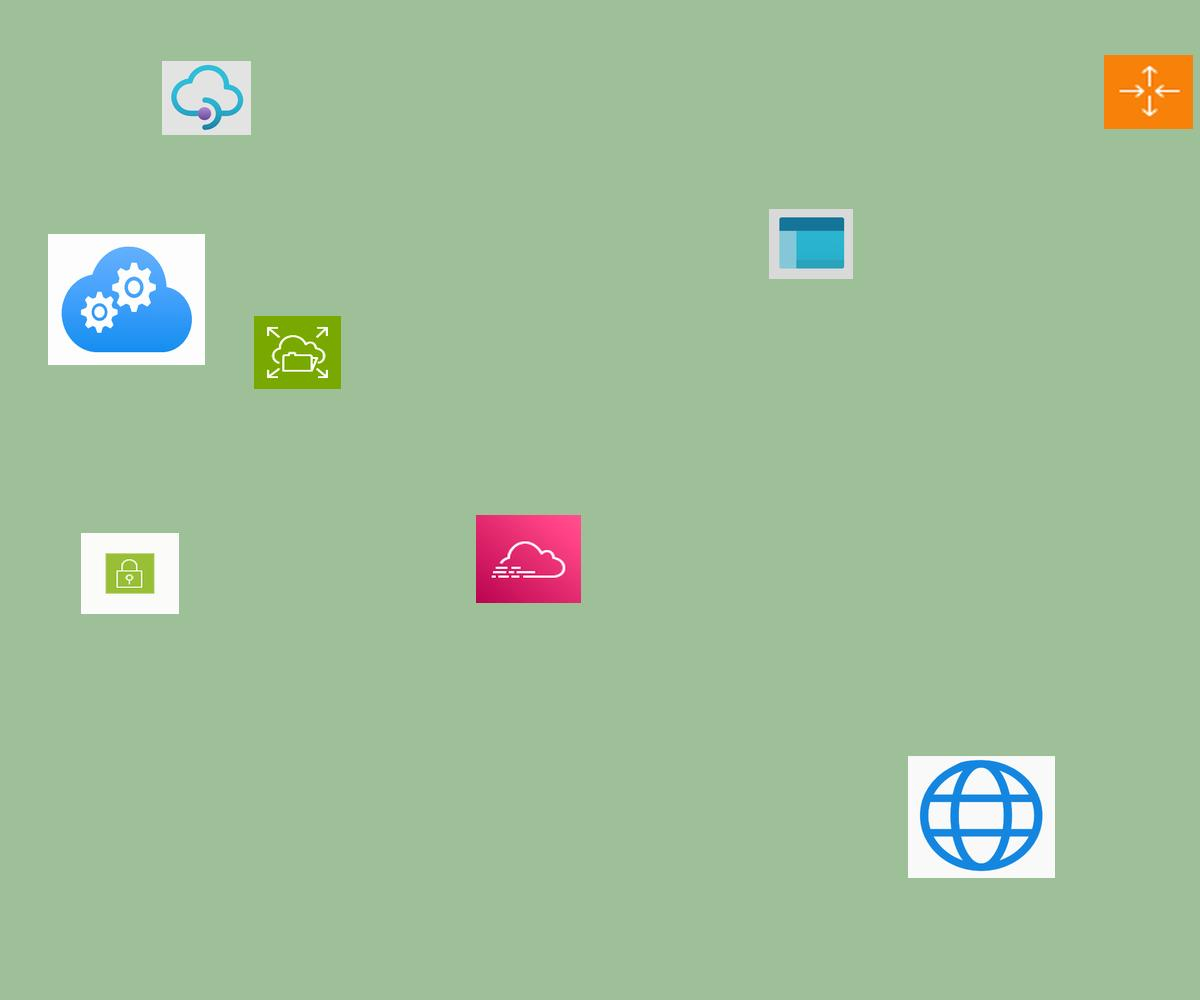AWS-CloudTrail: (476, 515, 581, 603)
AWS-EFS: (254, 316, 341, 389)
AWS-Public-subnet: (81, 533, 179, 614)
AWS-Scaling-group: (1104, 55, 1193, 129)
Azure_api_gateway: (162, 61, 251, 135)
Azure_cloud_services: (48, 234, 205, 365)
Azure_http: (908, 756, 1055, 878)
Azure_management-portal: (769, 209, 853, 279)
